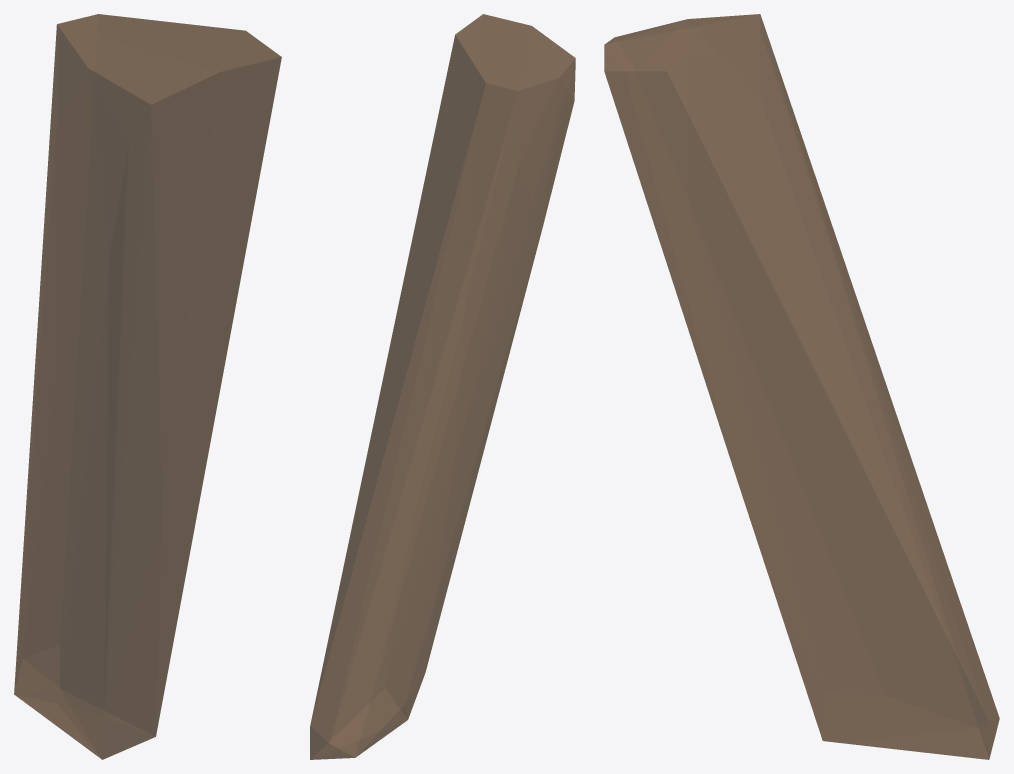
3 views of the same model, side by side, from view 1: azimuth 30°, elevation 25°; view 2: azimuth 150°, elevation 25°; view 3: azimuth 270°, elevation 25° (orthographic). The views are drawn at different scales.
Parts seen in each view (by area): view 1: Shape_IndexedFaceSet.021_Shape_IndexedFaceSet.15226; view 2: Shape_IndexedFaceSet.021_Shape_IndexedFaceSet.15226; view 3: Shape_IndexedFaceSet.021_Shape_IndexedFaceSet.15226.
Part boxes in pixels (x1,y1,x2,y2): Shape_IndexedFaceSet.021_Shape_IndexedFaceSet.15226: (14, 14, 281, 759); Shape_IndexedFaceSet.021_Shape_IndexedFaceSet.15226: (310, 14, 575, 759); Shape_IndexedFaceSet.021_Shape_IndexedFaceSet.15226: (604, 14, 999, 759).
Size of the model in its own units: 0.00609 by 0.0318 by 0.0165.
